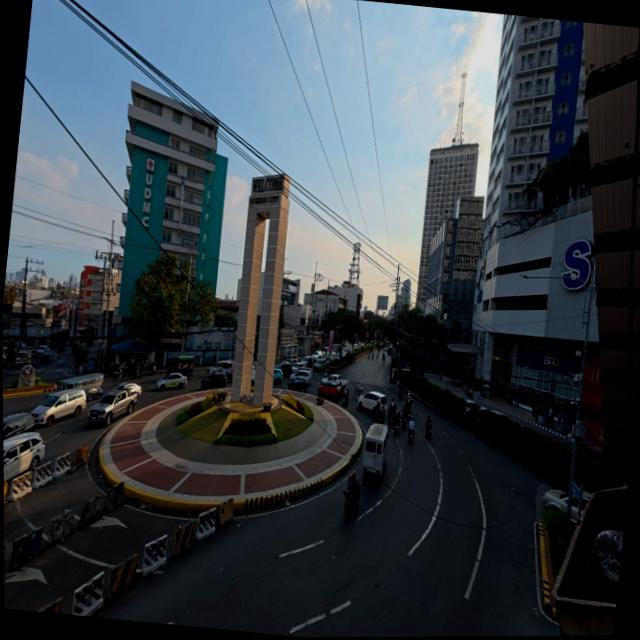car: (355, 386, 385, 412), (154, 369, 187, 392), (286, 367, 312, 392)
trucks: (84, 386, 137, 430)
